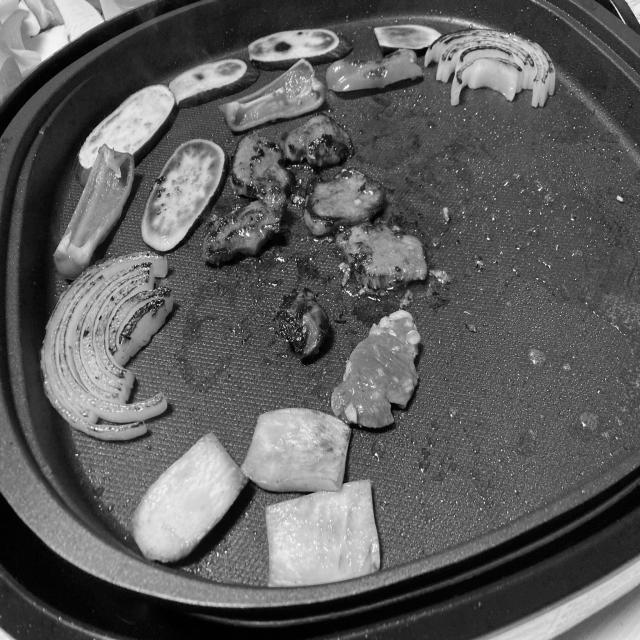NG undercooked beef,: (330, 302, 427, 445)
OK cooked beef,: (327, 207, 443, 301), (194, 178, 296, 268), (298, 159, 389, 249), (218, 120, 300, 199), (276, 104, 355, 169)
overcooked beef,: (262, 275, 345, 372)
